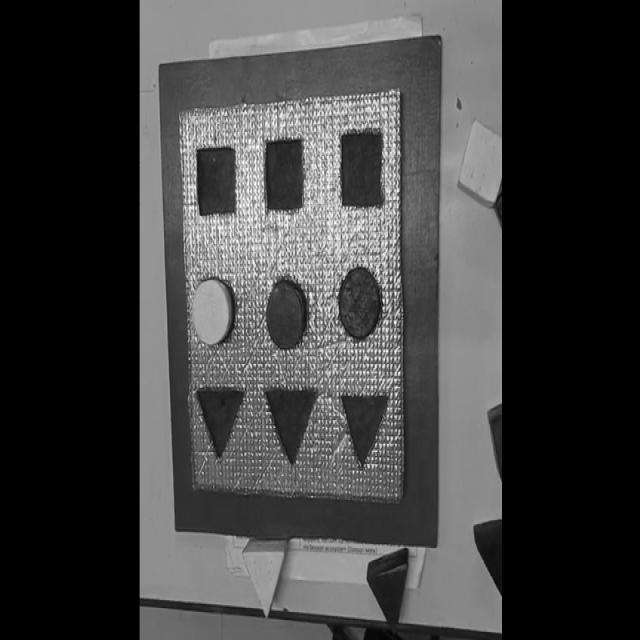bcircle: (338, 266, 381, 341)
btriangle: (473, 517, 501, 604)
mtcube: (340, 130, 384, 209), (265, 136, 305, 212), (196, 145, 238, 217)
mttriangle: (264, 385, 320, 467), (340, 391, 390, 469), (196, 386, 244, 459)
rcircle: (264, 277, 308, 351)
rtriangle: (366, 546, 410, 630)
wb: (179, 90, 408, 507)
ycircle: (192, 277, 234, 347)
ycube: (456, 118, 503, 212)
ytriangle: (240, 536, 289, 620)
